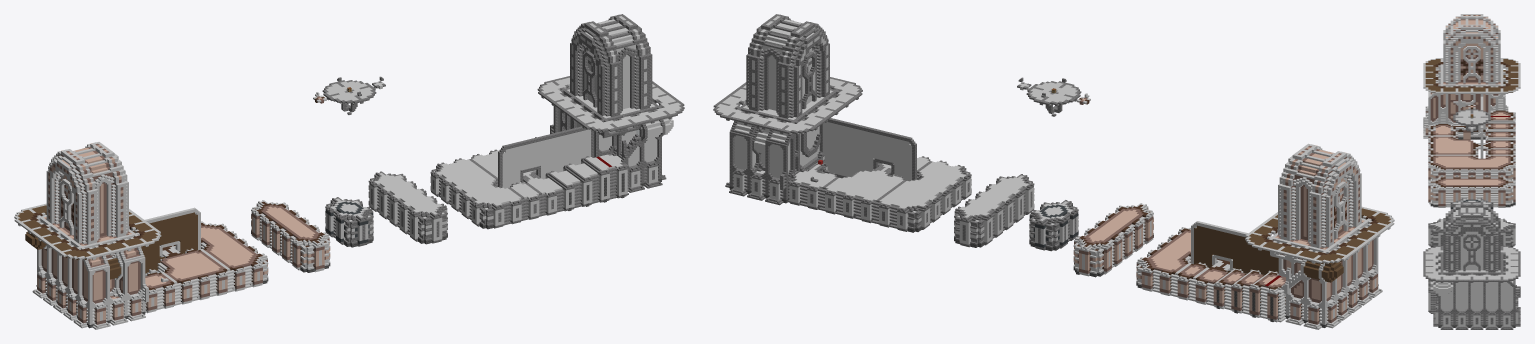
The model's file is minecraft.obj.
3 renders of one model, left to right at view 1: azimuth 30°, elevation 25°; view 2: azimuth 150°, elevation 25°; view 3: azimuth 270°, elevation 25°, orthographic. The views are drawn at different scales.
Bounding box in the file's own units: 211 × 49 × 39.
